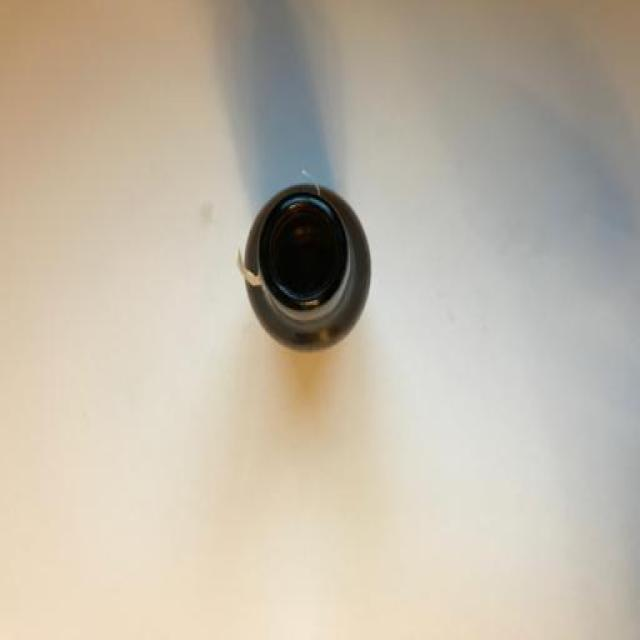Glass: (236, 178, 372, 352)
